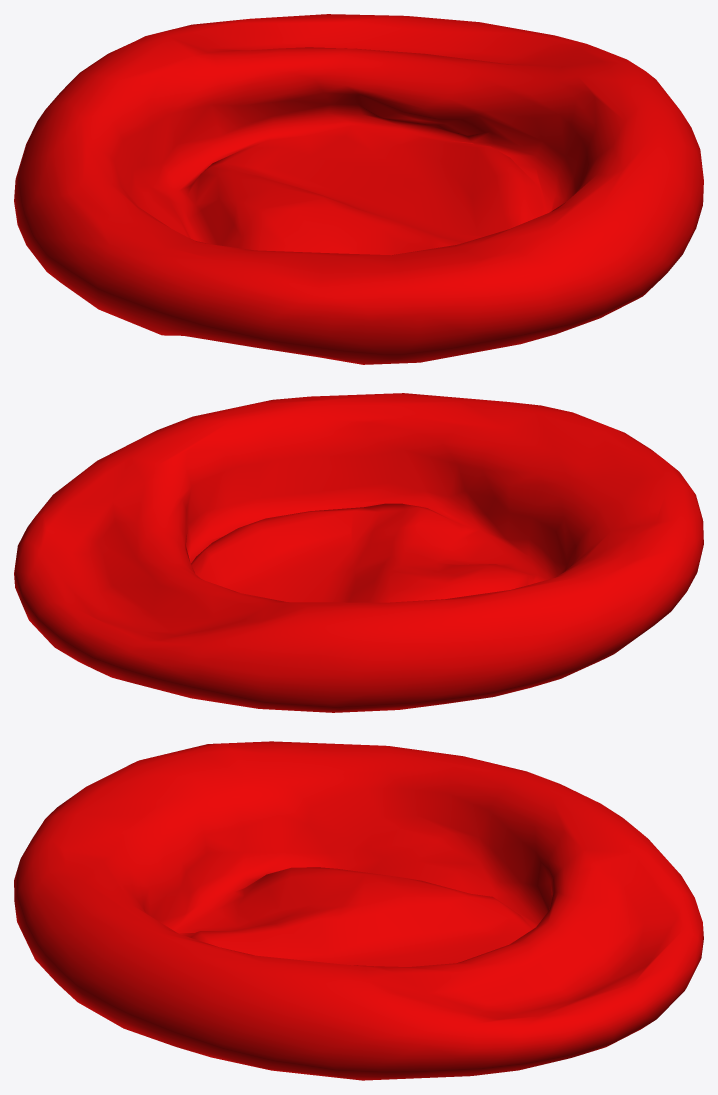
File: dog_beds_grp.fbx
The picture shows the model from 3 angles, top to bottom: view 1: azimuth 30°, elevation 25°; view 2: azimuth 150°, elevation 25°; view 3: azimuth 270°, elevation 25°; orthographic projection. The views are drawn at different scales.
Parts seen in each view (by area): view 1: dog_bed_1; view 2: dog_bed_1; view 3: dog_bed_1.
Part boxes in pixels (x1,y1,x2,y2): dog_bed_1: (14,14,703,364); dog_bed_1: (14,393,703,712); dog_bed_1: (14,741,703,1080).
Bounding box in the file's own units: 71.72 × 11.59 × 73.64.
